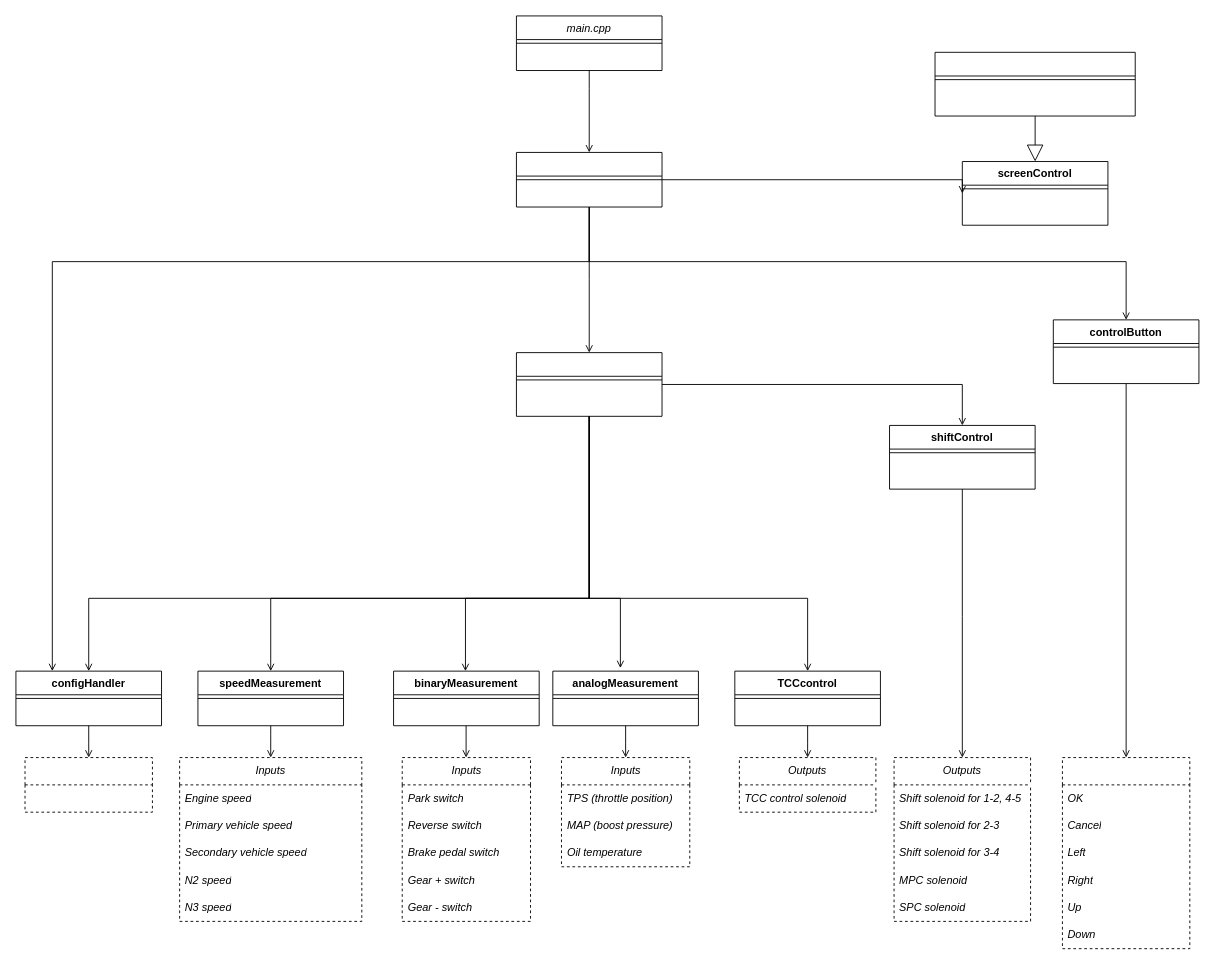
This 1215x965 diagram has some shape labels left out. Here are the shapes that lost their labels. From the top down, the box of each, then its label:
(934, 51, 1135, 116): U8G2_ST7920_128X64_1_SW_SPI
(516, 152, 662, 207): ui
(516, 352, 662, 416): core
(24, 757, 152, 812): SD card
(1062, 757, 1190, 949): Button pad inputs
